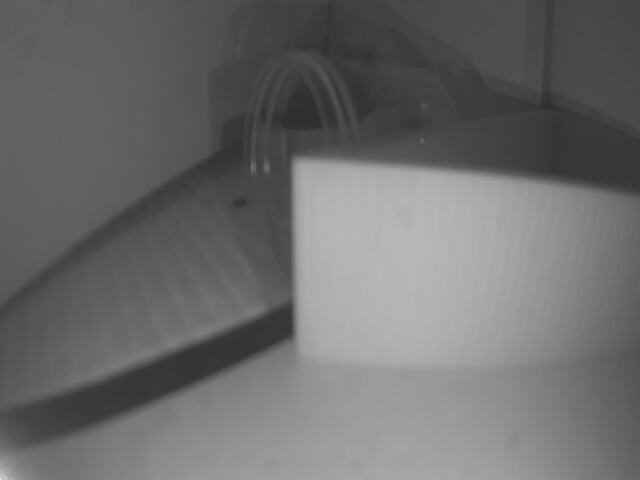Red: (284, 156, 639, 357)
